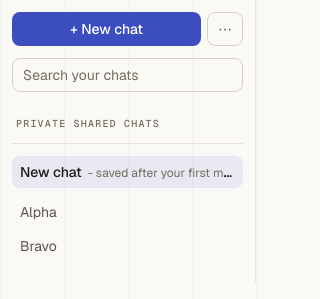
Test: deleting several chats at once › cannot start a delete with nothing selected
The width and height of the screenshot is (320, 299).
Expected: the button "Alpha" is shown, left=12, top=196, right=243, bottom=228
Click the button named "Chat list options". click: (225,29)
box: left=207, top=12, right=243, bottom=46
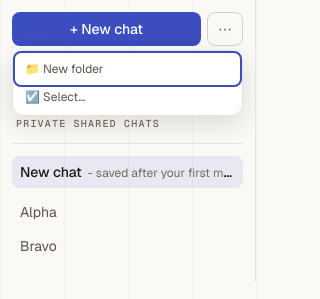
Click the button "☑️ Select…". click: (128,97)
box: left=17, top=83, right=238, bottom=111
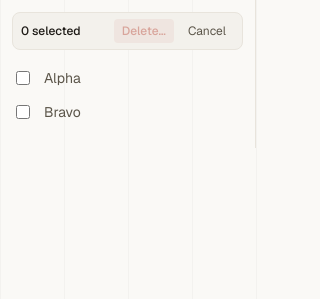
Expected: the text "0 selected" is shown, left=21, top=23, right=80, bottom=39
Expected: the button "Delete…" is disabled, left=114, top=19, right=174, bottom=43
